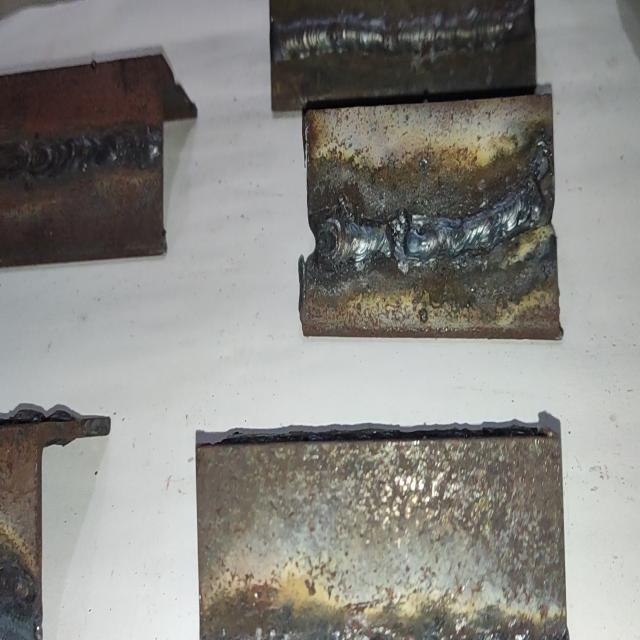Bad Weld: (321, 143, 554, 263)
Defect: (513, 128, 554, 234), (376, 200, 429, 270)
Good Weld: (277, 3, 529, 57), (4, 128, 158, 177)
